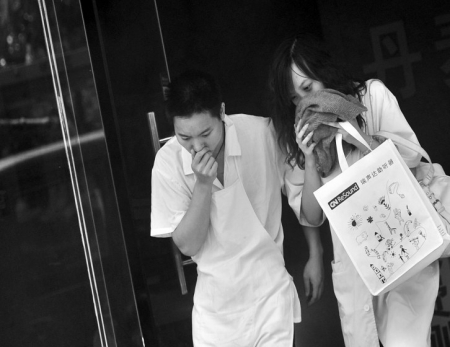face: (280, 63, 336, 119), (175, 115, 220, 160)
